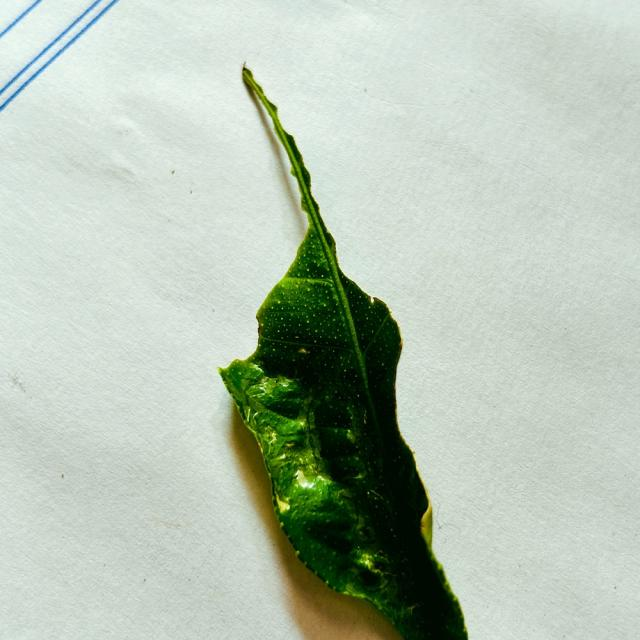Deficiency Leaf: (204, 182, 303, 373), (394, 349, 465, 601), (314, 181, 407, 310)
Lemon: (220, 67, 467, 639)
